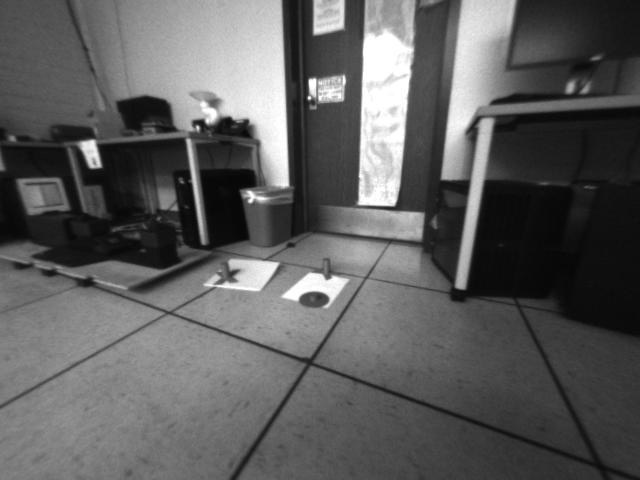X: (214, 262, 239, 286), (313, 257, 338, 278)
